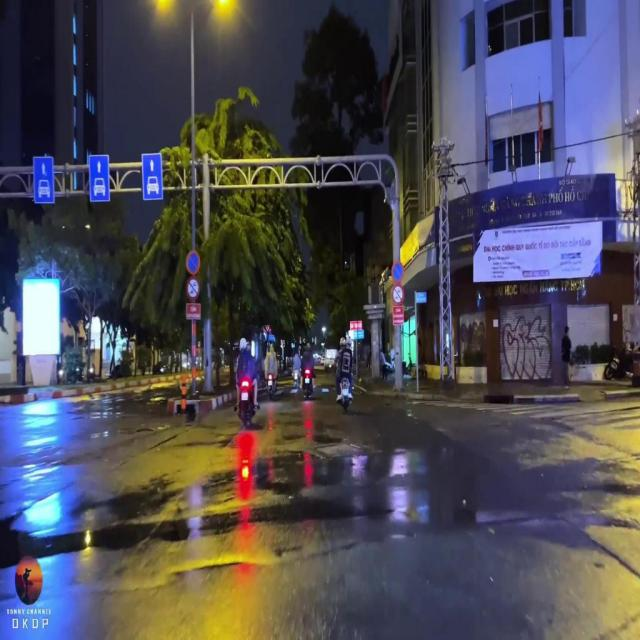cam_cac_loai_xe_3_banh: (392, 282, 404, 306)
cam_dung_xe_va_do_xe: (186, 250, 201, 276), (392, 261, 404, 283)
cam_xe_2_banh_va_xe_3_banh_co_dong_co: (186, 276, 200, 301)
duong_cho_xe_o_to: (34, 158, 54, 203), (89, 156, 109, 201), (142, 155, 162, 199)
